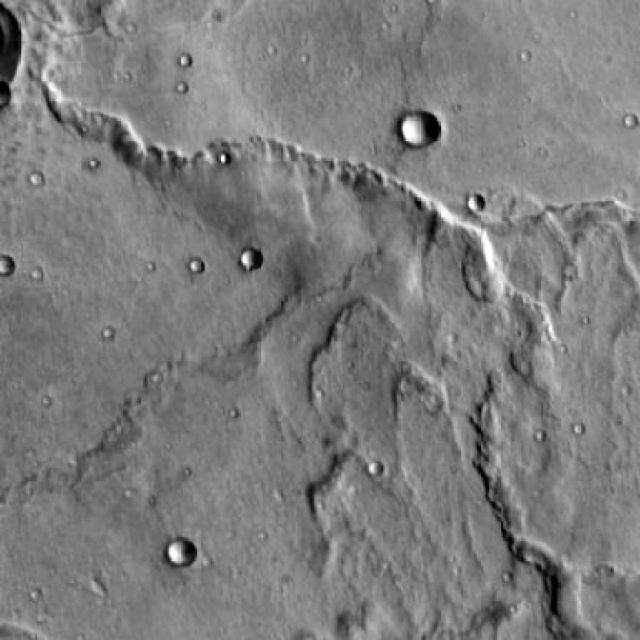crater: (399, 112, 438, 148), (166, 538, 194, 564), (238, 252, 260, 272), (468, 194, 486, 211)
